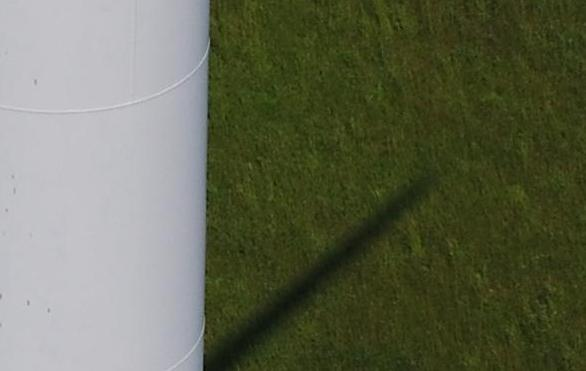damage: (26, 298, 31, 308), (33, 77, 38, 86), (11, 172, 14, 181), (13, 187, 16, 195), (47, 307, 50, 314)
